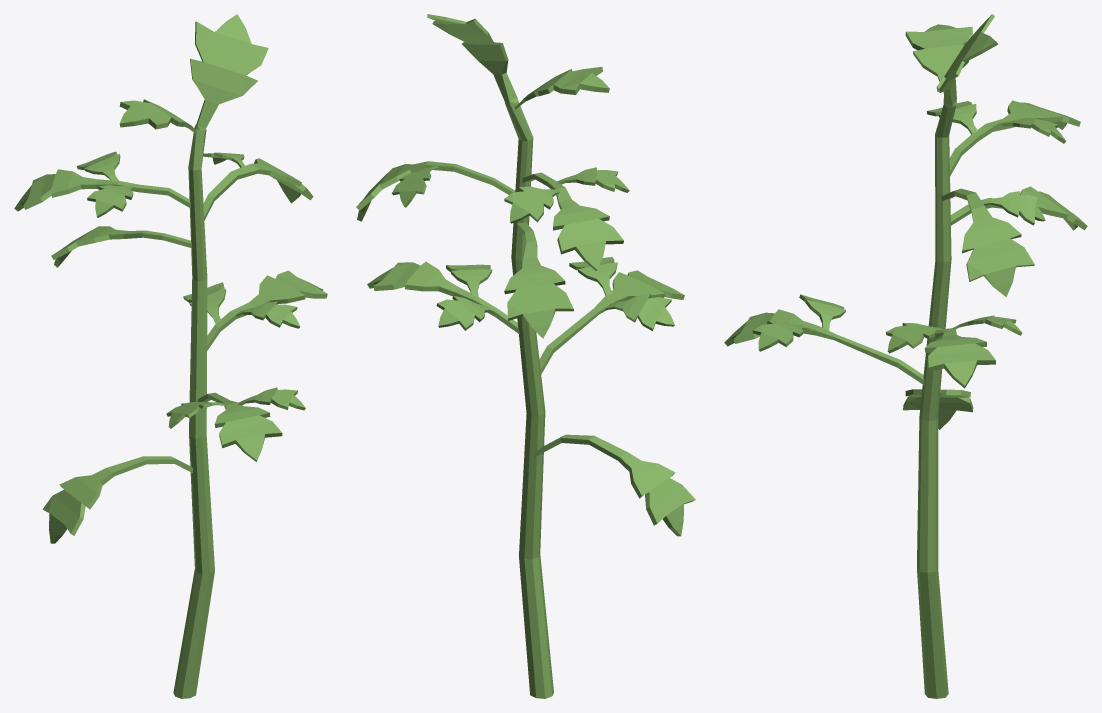
Rendered from tomato_harvested.glb.
3 views of the same model, side by side, from view 1: azimuth 30°, elevation 25°; view 2: azimuth 150°, elevation 25°; view 3: azimuth 270°, elevation 25° (orthographic). The views are drawn at different scales.
Visible parts, largest first — view 1: Tomato_Harvested; view 2: Tomato_Harvested; view 3: Tomato_Harvested.
Part boxes in pixels (x1,y1,x2,y2): Tomato_Harvested: (14,14,327,698); Tomato_Harvested: (356,14,695,698); Tomato_Harvested: (724,14,1087,698).
Bounding box in the file's own units: 0.7932 × 1.72 × 0.81.
